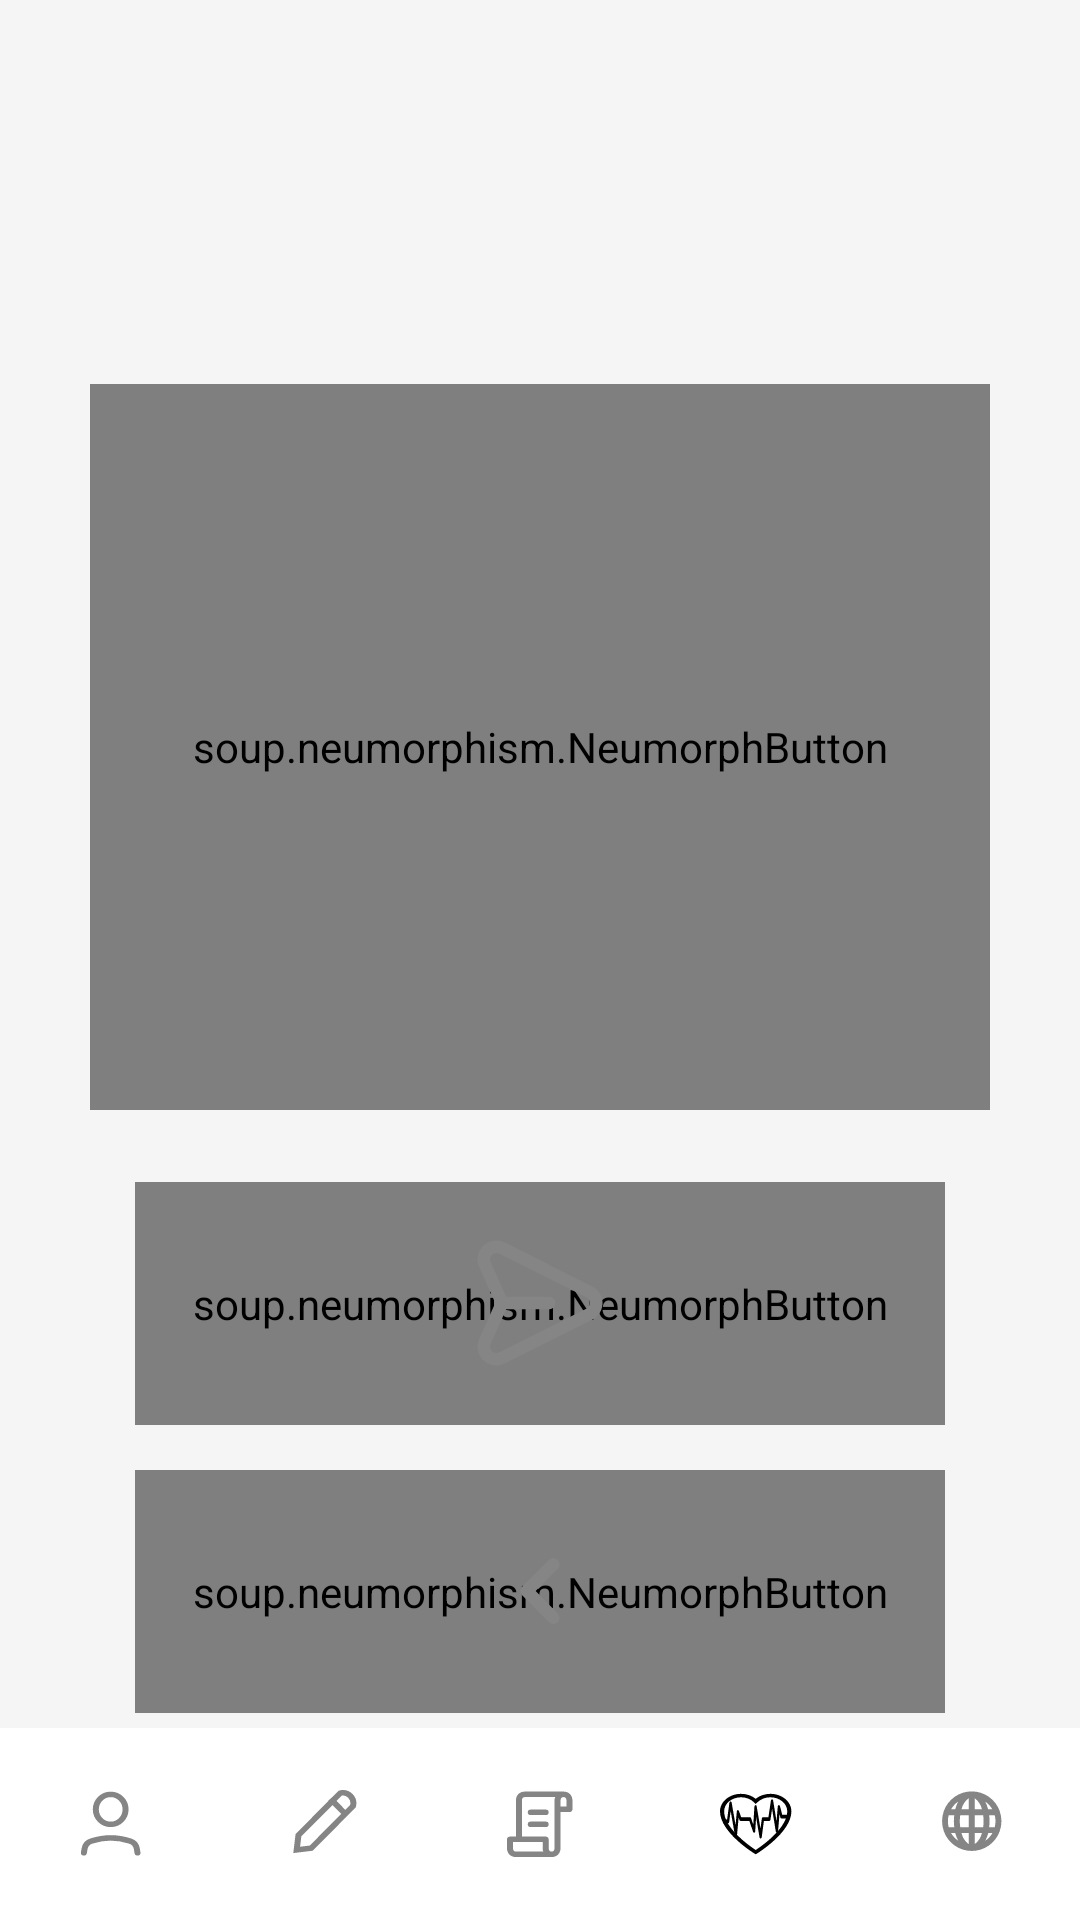

Point at icon controls on the screen. Image size 1080*1920, points as point (x, y).
edit: point (325, 1821)
heart: point (756, 1824)
profile: point (111, 1823)
scroll: point (540, 1824)
